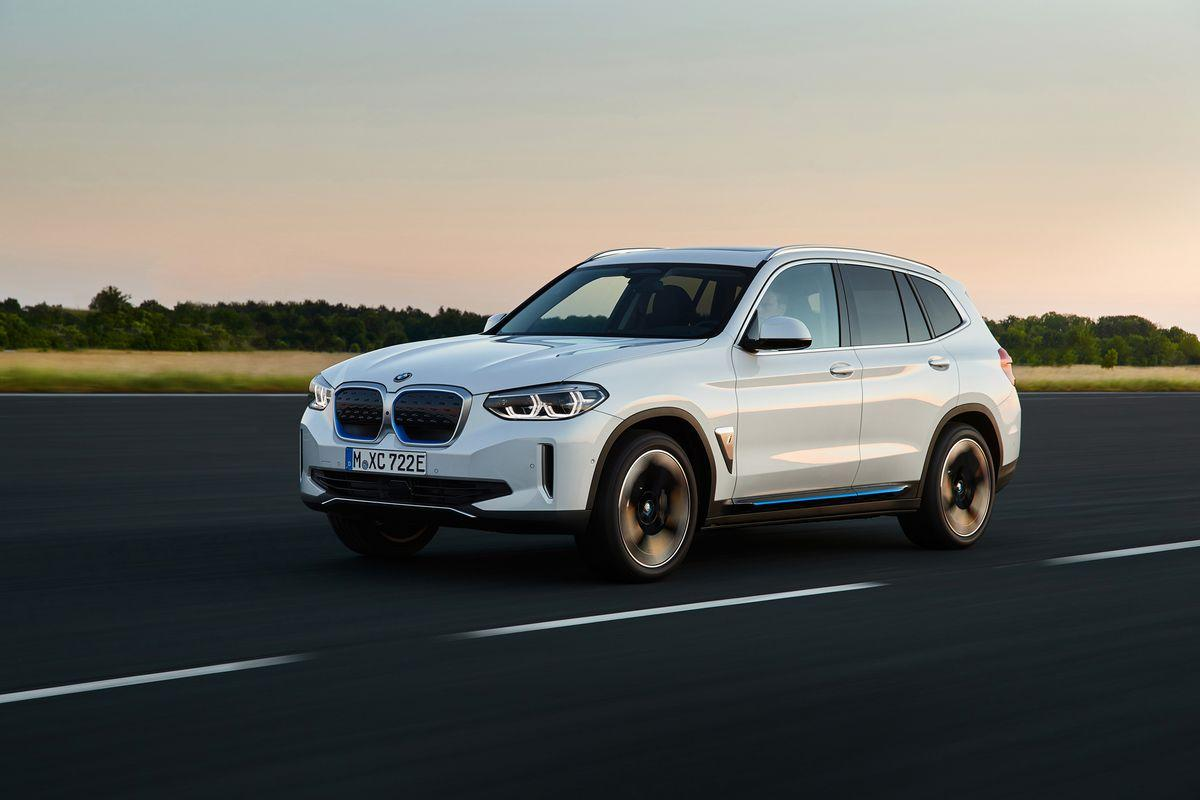car: (286, 236, 1029, 591)
